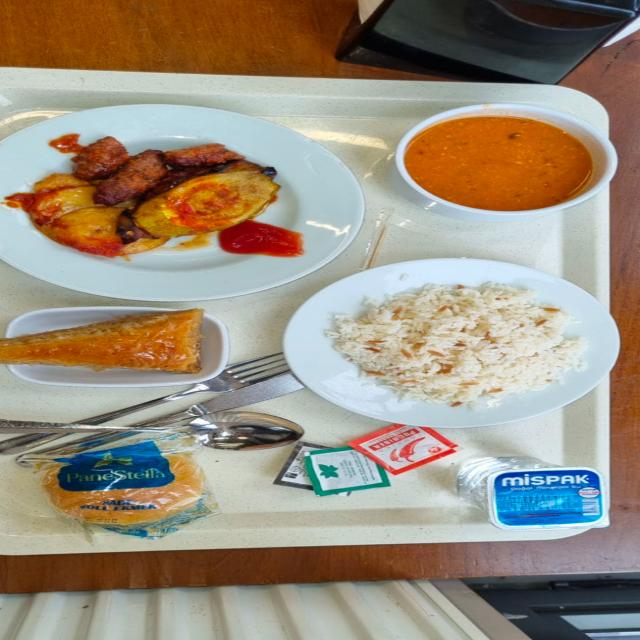ana_yemek: (0, 102, 365, 295), (282, 262, 622, 424)
corba: (392, 103, 616, 220)
yan_yemek: (4, 307, 233, 385)
